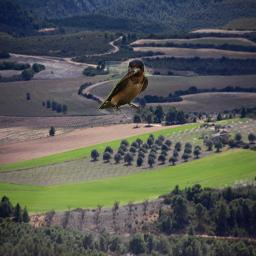Swallow: (98, 59, 148, 116)
